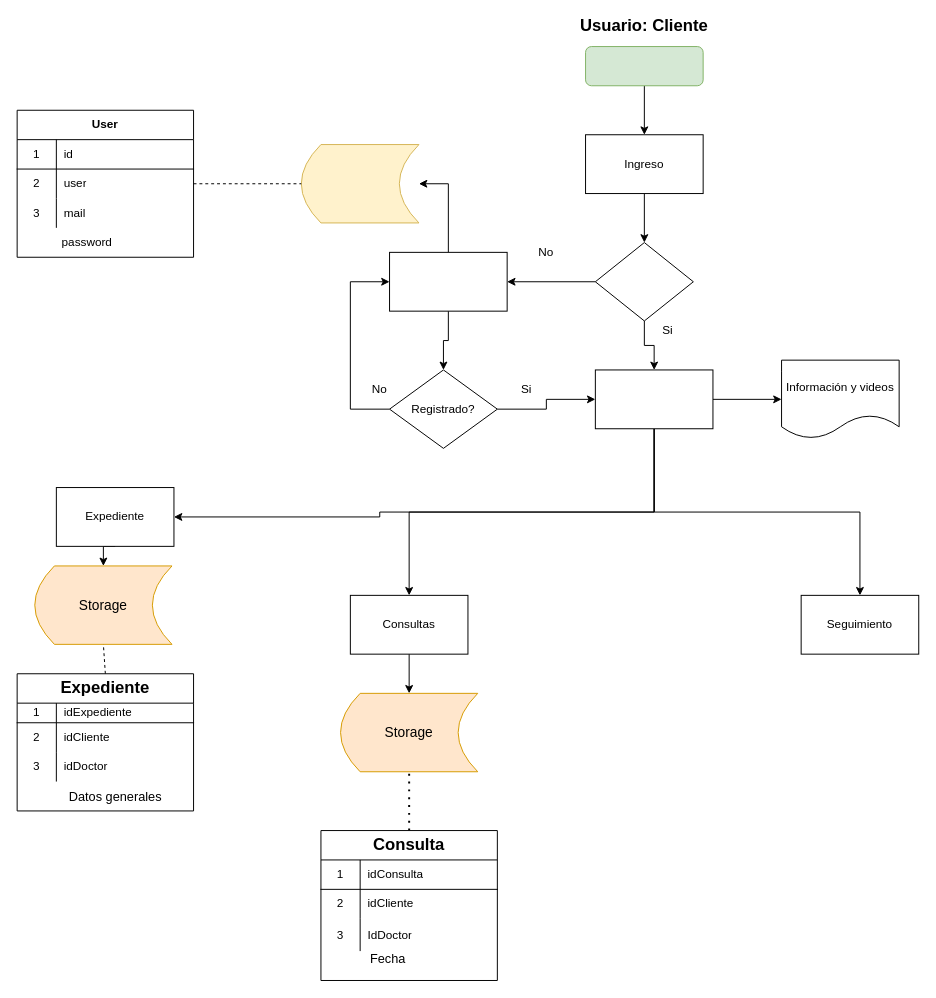
Some shapes in this 936 by 998 pixel diagram are drawn without their labels. Each missing label, with the box of its shape:
Inicio: (585, 46, 703, 86)
Panel de usuario: (594, 369, 713, 429)
Registro: (389, 251, 507, 311)
Storage Save: (300, 144, 419, 223)
Usuario Registrado?: (594, 242, 693, 321)
